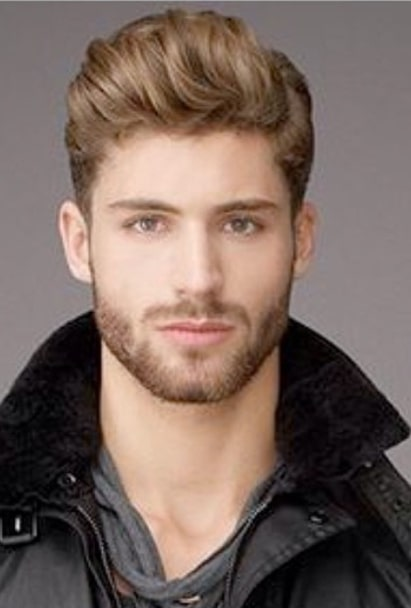without_mask: (90, 170, 290, 353)
